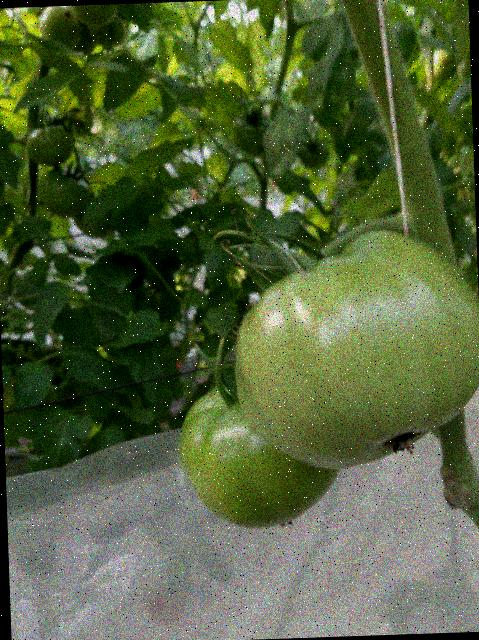b_green: (230, 227, 479, 473), (174, 373, 342, 532), (38, 168, 91, 219), (25, 126, 74, 168), (39, 5, 80, 54), (62, 4, 116, 28)
